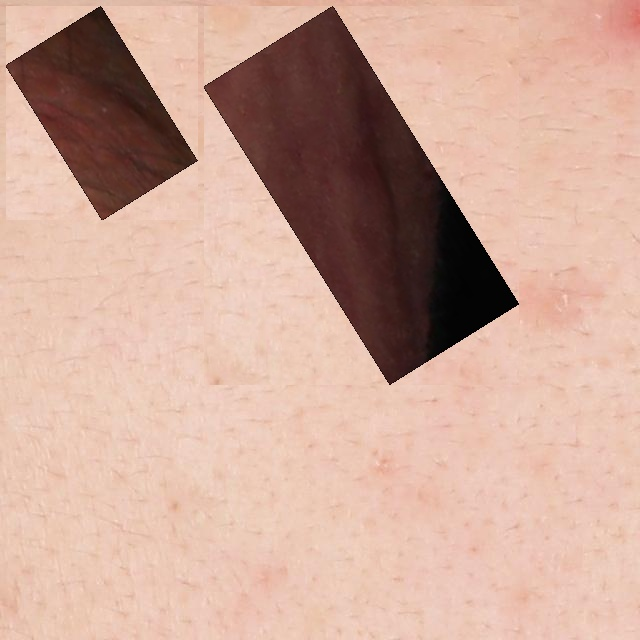nodule: (215, 17, 508, 373), (17, 17, 186, 209)
